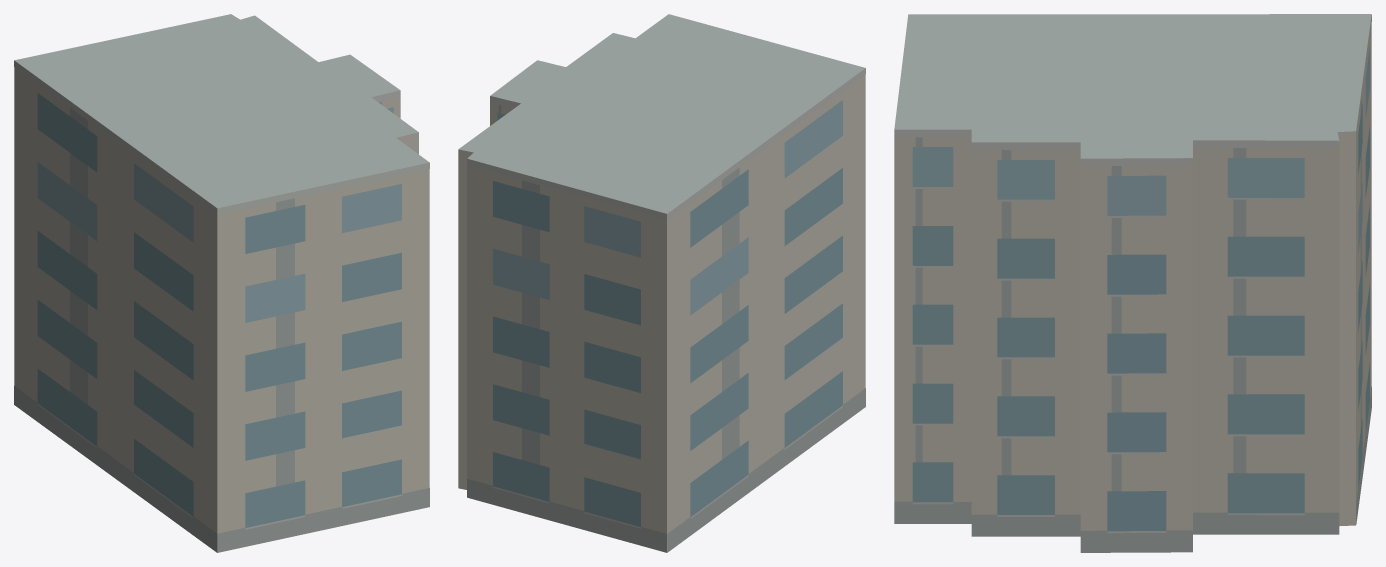
File: survey-upis-32878342.glb
3 views of the same model, side by side, from view 1: azimuth 30°, elevation 25°; view 2: azimuth 150°, elevation 25°; view 3: azimuth 270°, elevation 25° (orthographic). The views are drawn at different scales.
Visible parts, largest first — view 1: survey-upis-32878342.tmp; view 2: survey-upis-32878342.tmp; view 3: survey-upis-32878342.tmp.
Boxes of the visible parts, x1,y1,x2,y2 form: survey-upis-32878342.tmp: (14,14,429,552); survey-upis-32878342.tmp: (458,14,865,552); survey-upis-32878342.tmp: (894,14,1371,552).
Bounding box in the file's own units: 10.01 × 12.7 × 13.95.
